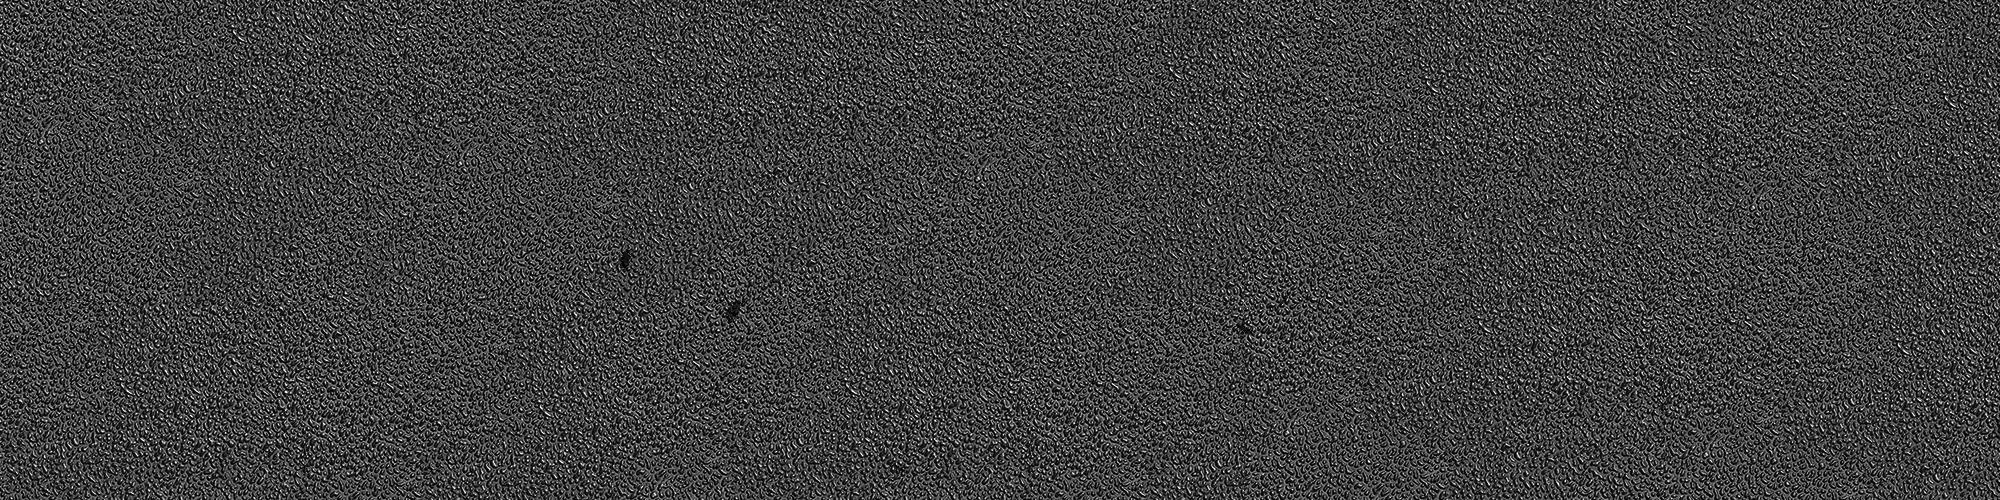Decomposed: (721, 293, 746, 329), (612, 249, 636, 276), (1233, 318, 1260, 342)
